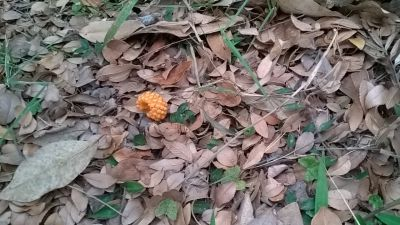eggs: (136, 89, 168, 121)
